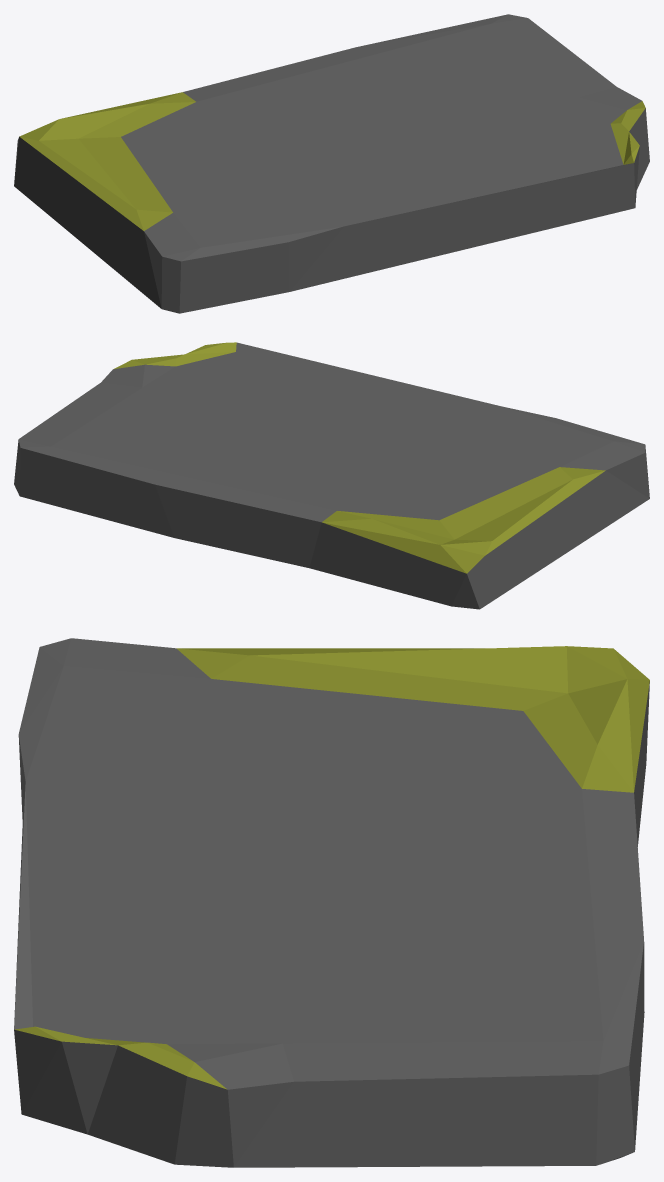
The model's file is tile_moss_type_3_LOD3.fbx.
3 renders of one model, top to bottom at view 1: azimuth 30°, elevation 25°; view 2: azimuth 150°, elevation 25°; view 3: azimuth 270°, elevation 25°, orthographic. The views are drawn at different scales.
Parts seen in each view (by area): view 1: tile_moss_type_3; view 2: tile_moss_type_3; view 3: tile_moss_type_3.
Part boxes in pixels (left/top/right/bottom): tile_moss_type_3: left=14, top=14, right=649, bottom=313; tile_moss_type_3: left=14, top=342, right=649, bottom=609; tile_moss_type_3: left=14, top=638, right=649, bottom=1167.
Bounding box in the file's own units: 198 × 21.85 × 119.
